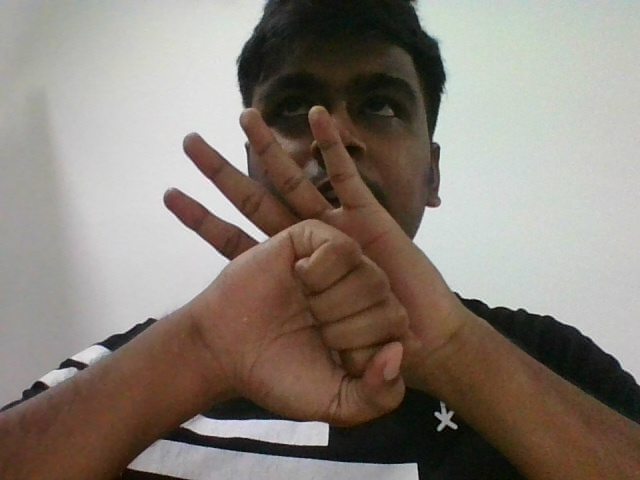coronavirus: (161, 101, 425, 434)
